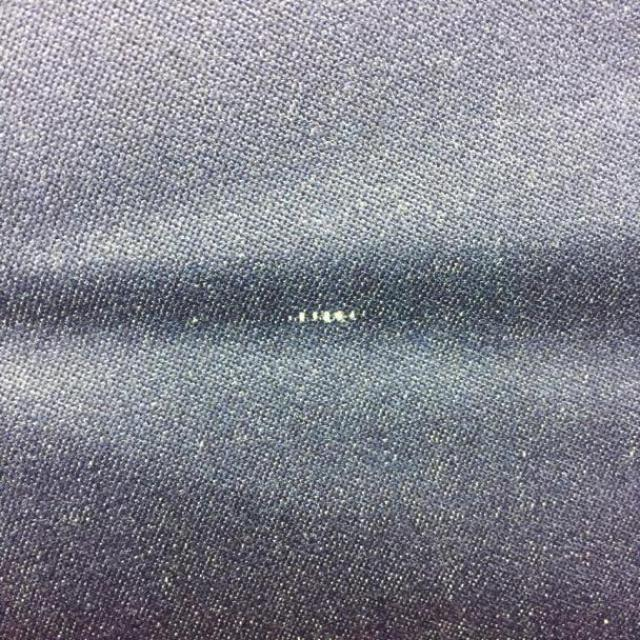Knot: (287, 311, 366, 325)
